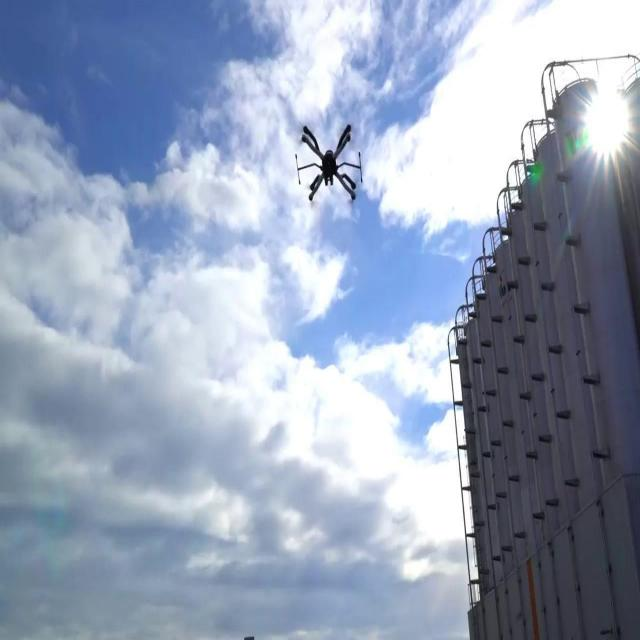UAV: (295, 124, 363, 202)
